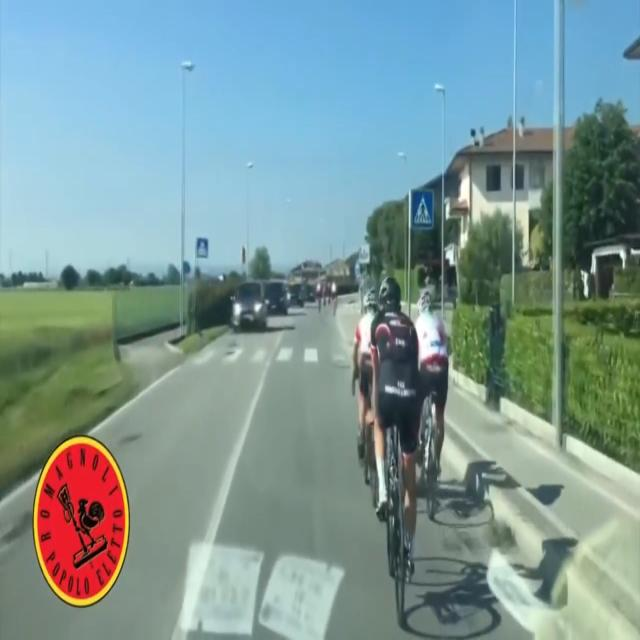Pedestrian crosswalk: (196, 333, 349, 371), (409, 188, 435, 231), (196, 236, 208, 260)
